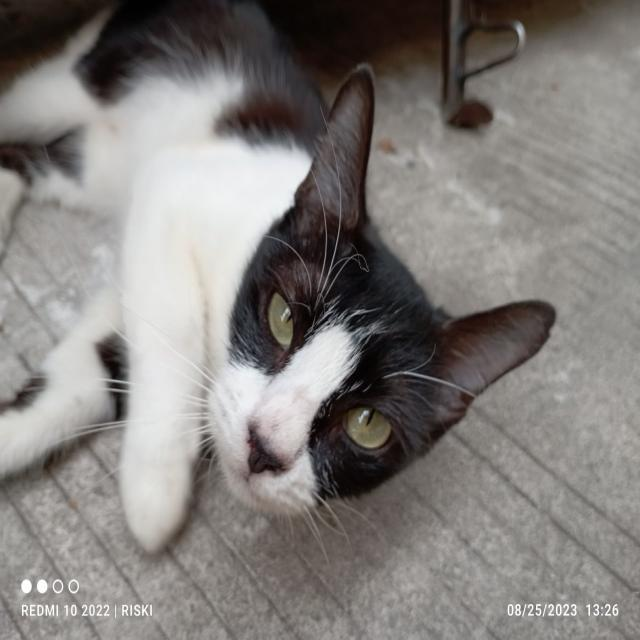da khoe manh: (96, 38, 296, 344)
